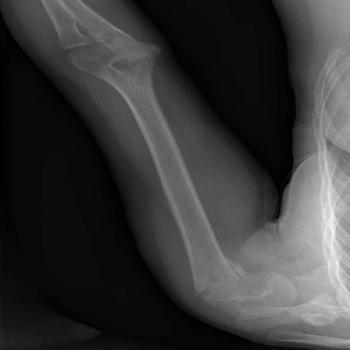Fracture: (188, 277, 228, 304)
